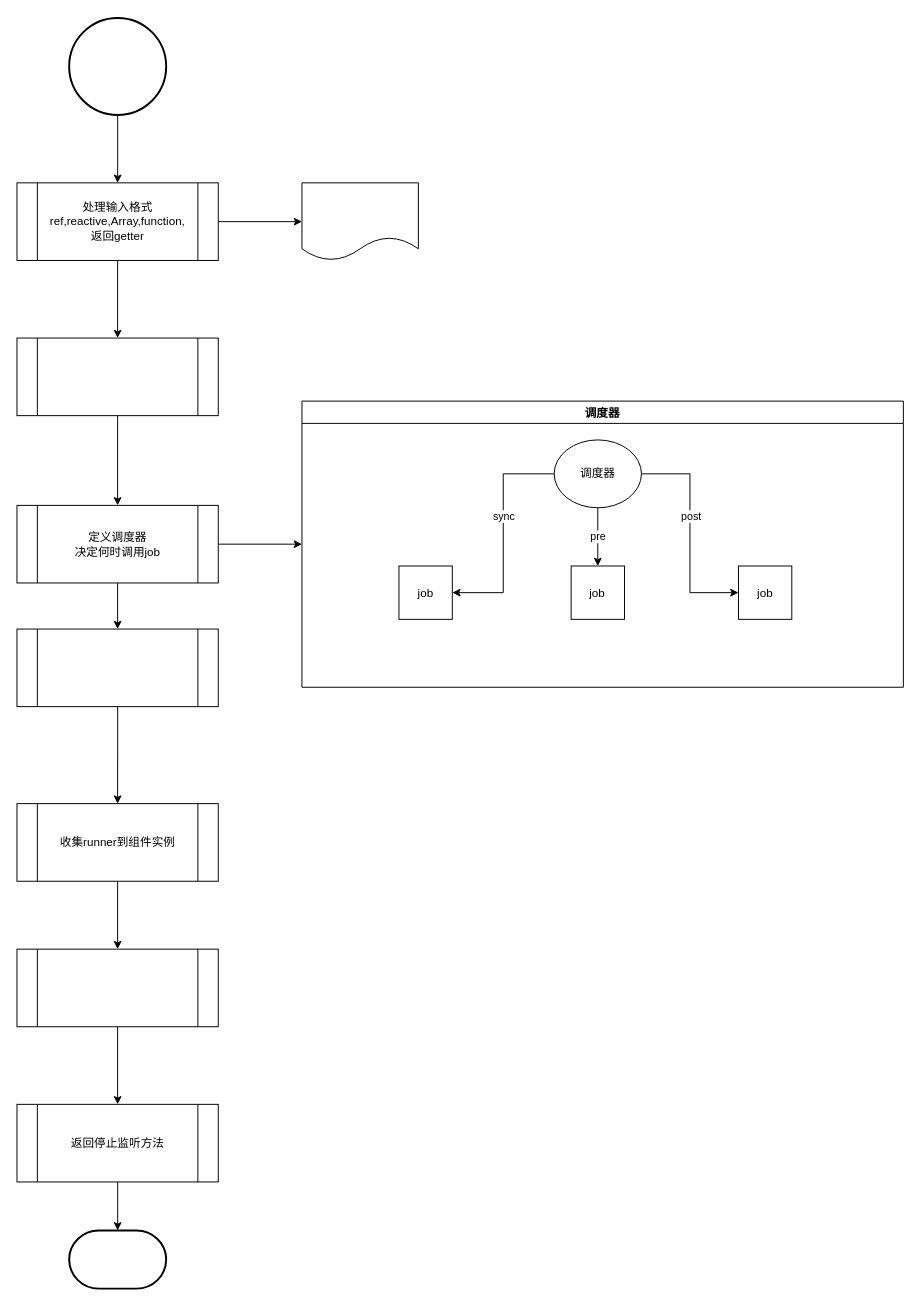
This 921x1306 diagram has some shape labels left out. The centre of each missing label's shape, as x and y in pixels:
watch: the point at 117,65
初始化执行回调函数: the point at 117,987
定义job job就是用户定义的回调函数: the point at 117,376
定义runner副作用函数: the point at 117,667
怎么优化监听obj.a.b属性？: the point at 359,221
